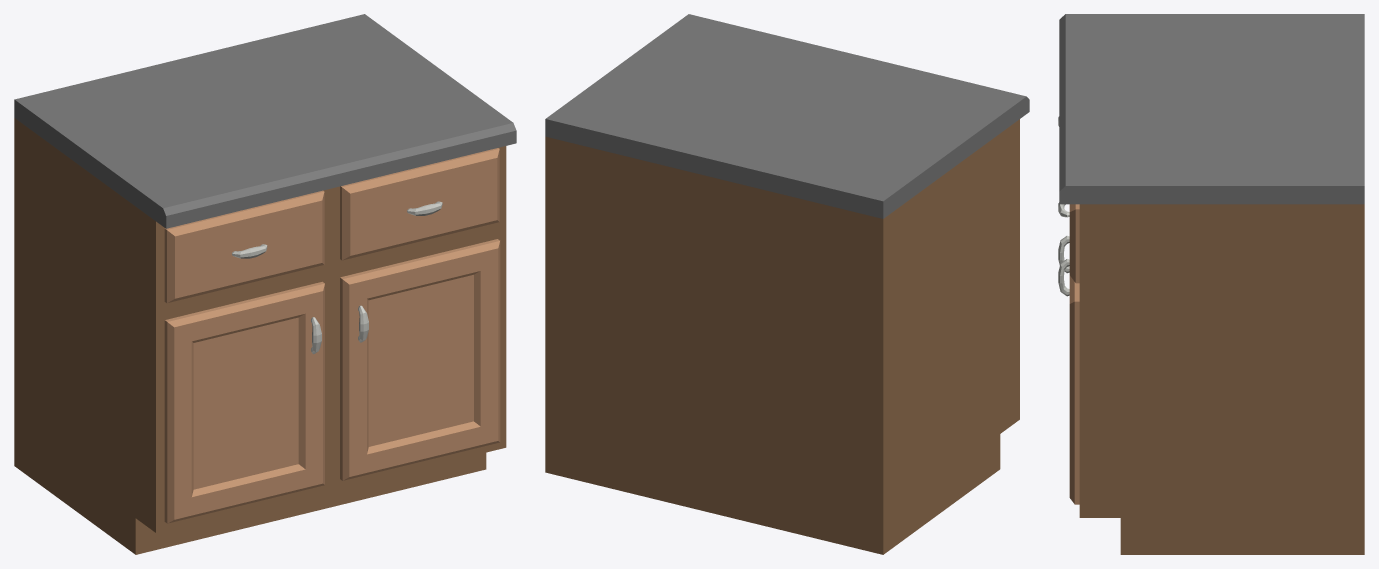
Rendered from Bathroom_Cabinet_Full.obj.
3 views of the same model, side by side, from view 1: azimuth 30°, elevation 25°; view 2: azimuth 150°, elevation 25°; view 3: azimuth 270°, elevation 25° (orthographic). The views are drawn at different scales.
Visible parts, largest first — view 1: object1, object5, object6, object10, object4, object8; view 2: object1, object5; view 3: object1, object5, object10, object8.
Part boxes in pixels (x1,y1,x2,y2): object1: (14, 118, 506, 554); object5: (14, 14, 516, 228); object6: (164, 281, 324, 523); object10: (340, 239, 500, 480); object4: (164, 190, 324, 302); object8: (340, 148, 499, 260); object1: (545, 119, 1019, 554); object5: (545, 14, 1029, 218); object1: (1079, 204, 1364, 554); object5: (1059, 14, 1364, 204); object10: (1069, 275, 1079, 504); object8: (1069, 204, 1079, 283).
Bounding box in the file's own units: 1 × 1 × 0.7531.
